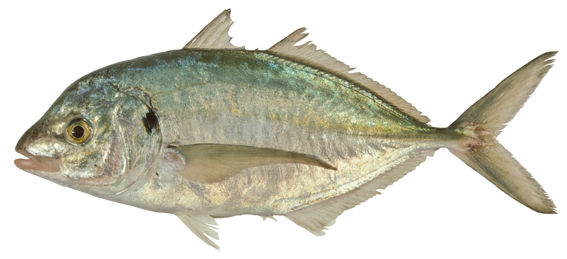fish: (13, 7, 559, 250)
